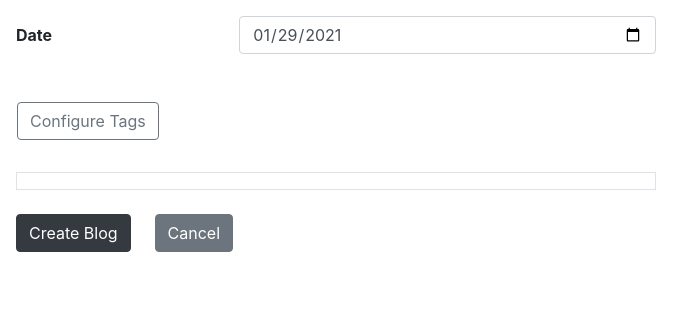
given a blog is created › should show error and do nothing if fields are empty
This screenshot has width=673, height=317.
Clear the date field labelled "Date" at (448, 35), box [239, 16, 656, 54]
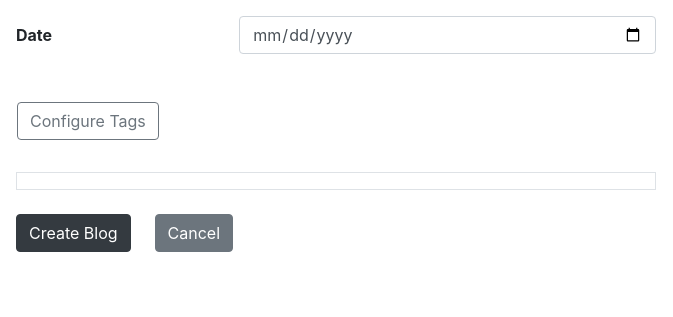
Click the button "Create Blog" at (73, 233), box [16, 214, 131, 252]
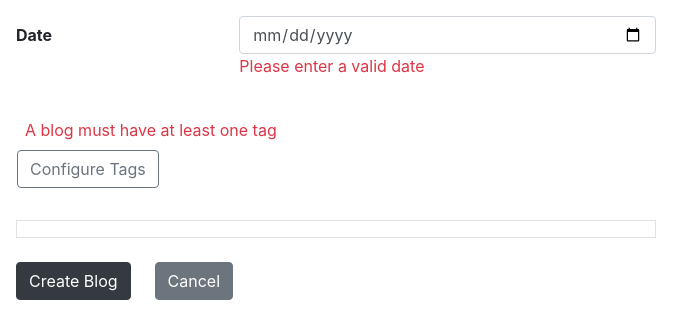
Check: the text "Please enter a valid date" is shown, box [239, 56, 424, 76]
Check: the text "A blog must have at least one tag" is shown, box [25, 120, 277, 140]
